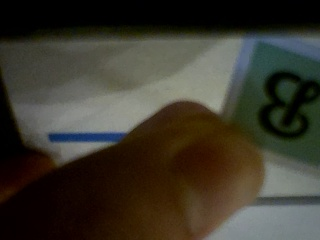B: (227, 40, 320, 169)
